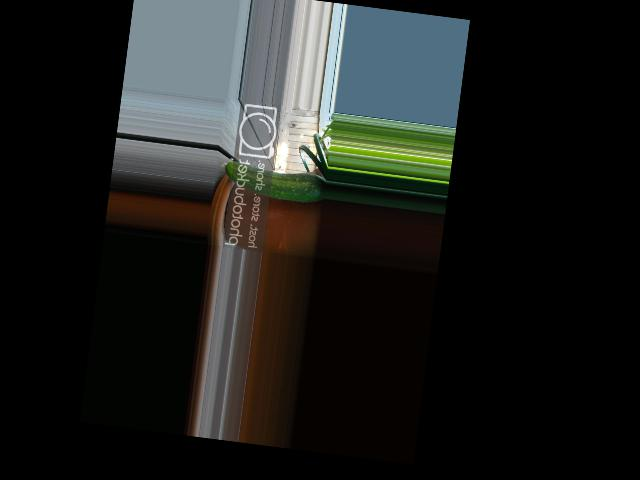cucumber: (217, 159, 326, 204)
